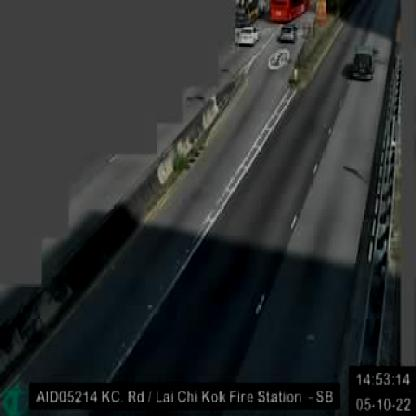Car: (350, 43, 377, 80), (236, 24, 258, 45), (278, 24, 295, 42)
